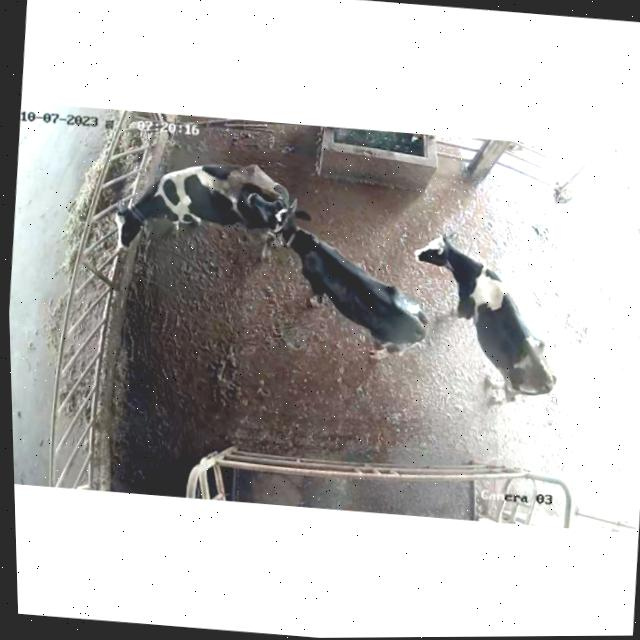propping: (214, 168, 315, 248)
